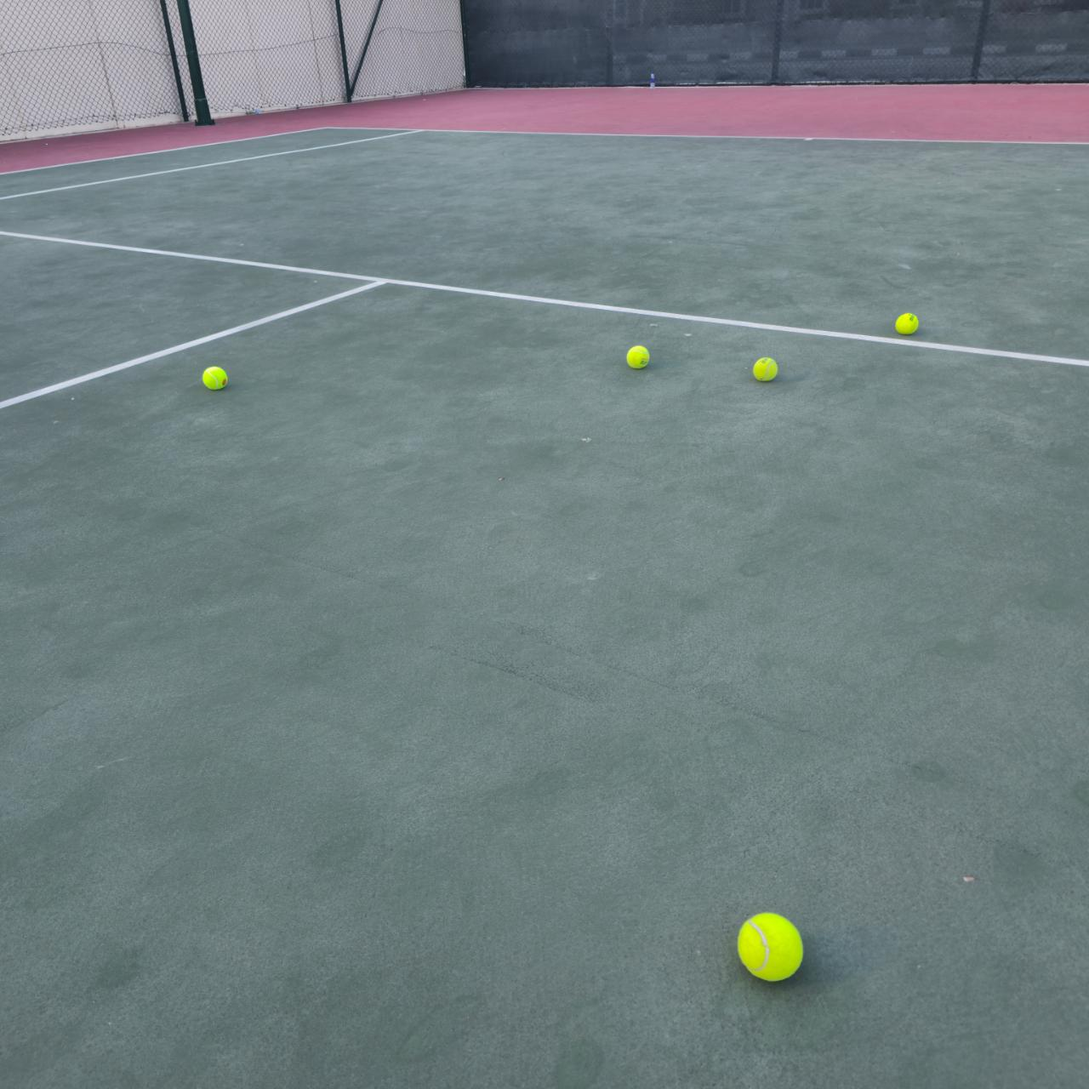tennis-ball: (736, 909, 807, 983), (202, 363, 230, 391), (753, 354, 780, 381), (626, 342, 652, 369), (895, 309, 921, 335)
